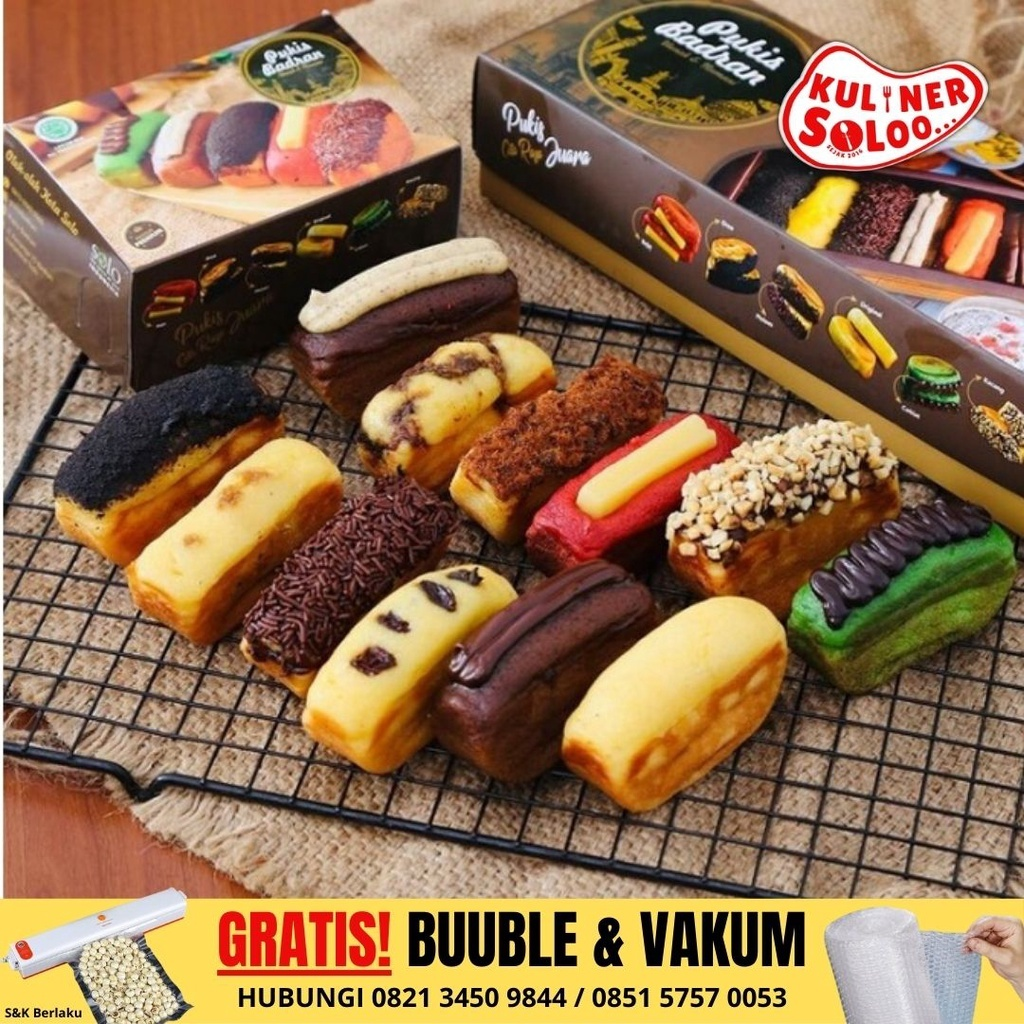pukis: (559, 603, 775, 854)
